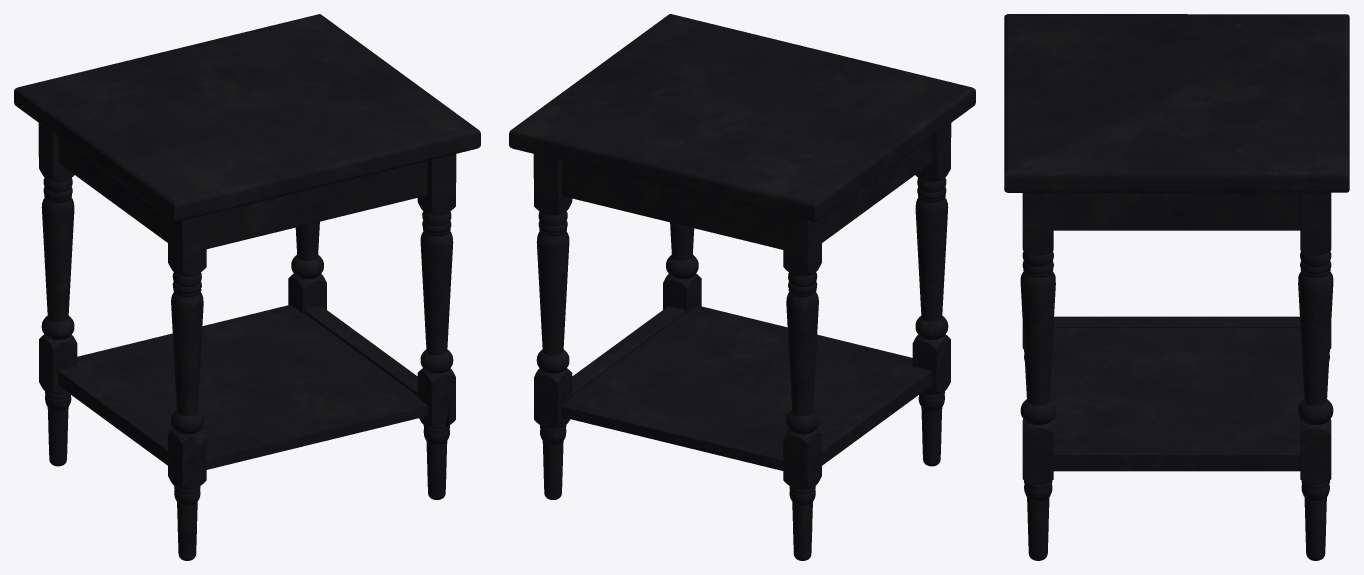
Rendered from B07DBDT59C.glb.
The picture shows the model from 3 angles, left to right: view 1: azimuth 30°, elevation 25°; view 2: azimuth 150°, elevation 25°; view 3: azimuth 270°, elevation 25°; orthographic projection. The views are drawn at different scales.
Visible parts, largest first — view 1: RootNode; view 2: RootNode; view 3: RootNode.
Part boxes in pixels (x1=…): RootNode: x1=14, y1=14, x2=480, y2=560; RootNode: x1=509, y1=14, x2=975, y2=560; RootNode: x1=1004, y1=14, x2=1349, y2=560.
Bounding box in the file's own units: 0.4878 × 0.565 × 0.4421.
Materials: 1 (1 with a texture image).
